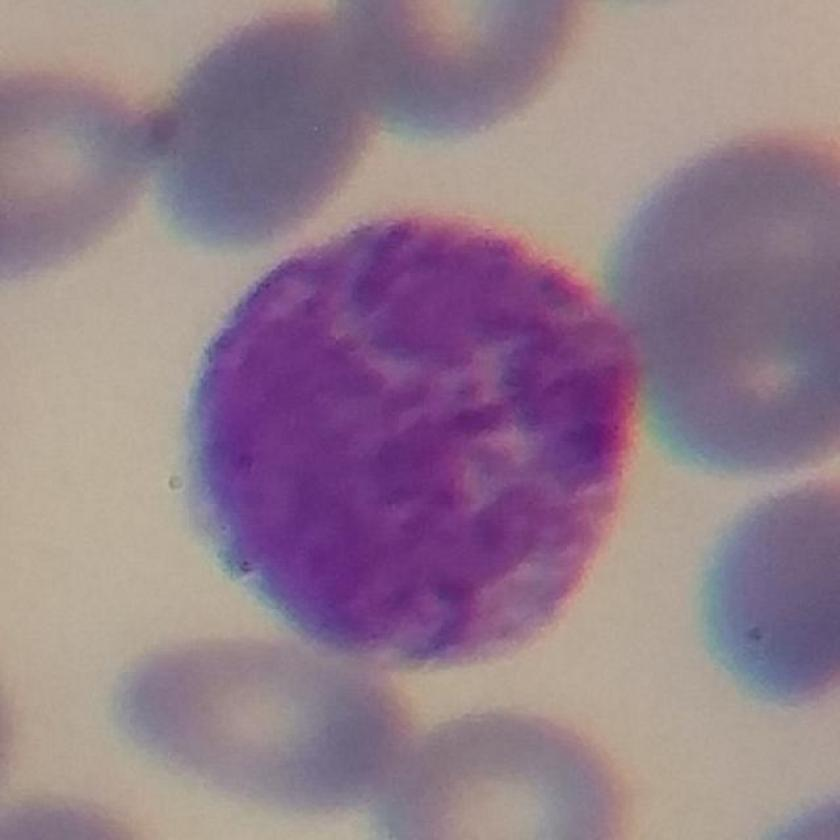basophil: (184, 205, 654, 665)
